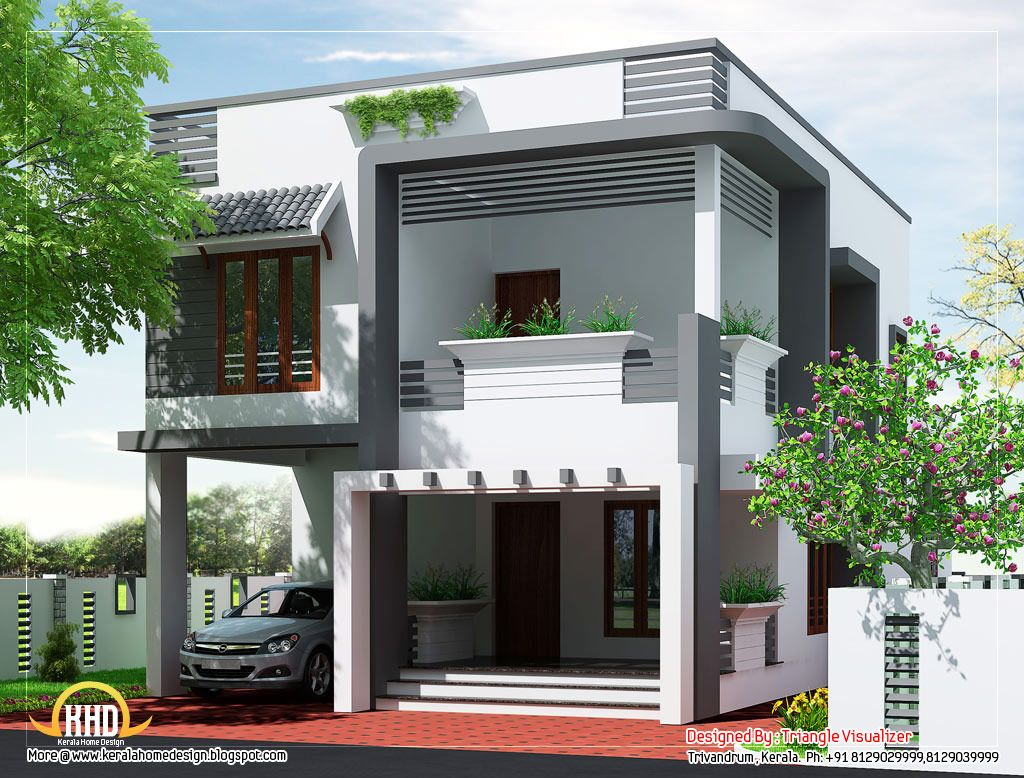Building House: (117, 81, 952, 689)
